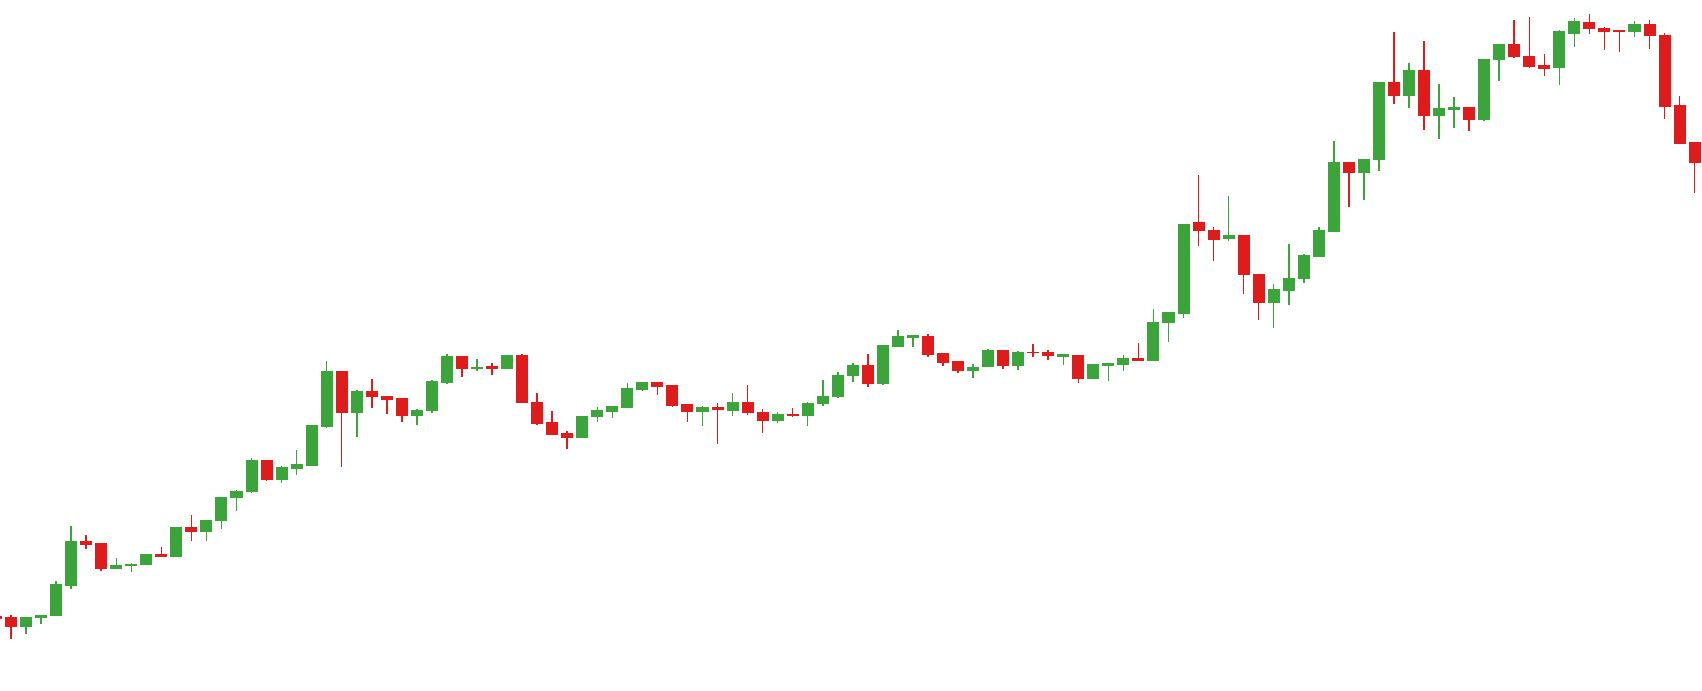buy: (393, 384, 592, 452)
sell: (1417, 20, 1521, 104)
